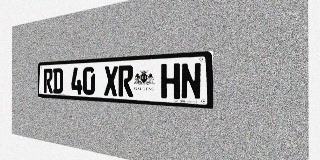0: (83, 67, 95, 95)
4: (71, 67, 82, 95)
D: (53, 68, 63, 94)
H: (161, 63, 180, 99)
N: (181, 62, 202, 100)
R: (118, 65, 133, 97), (43, 68, 53, 93)
X: (104, 66, 118, 96)
